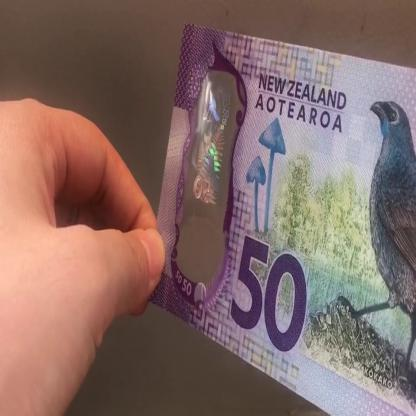50B: (188, 78, 228, 279)
